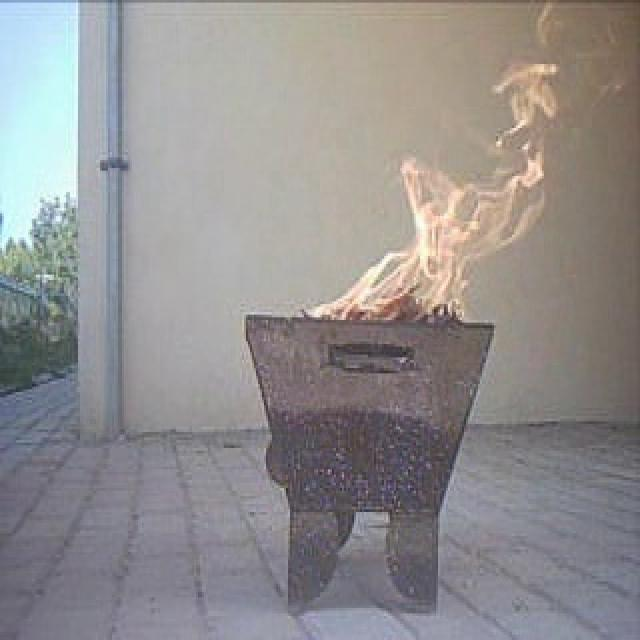fire: (390, 157, 530, 307), (502, 46, 554, 152)
